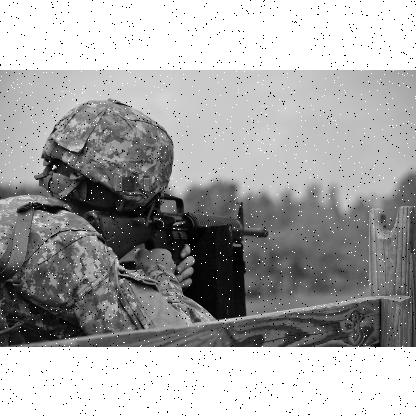gun: (74, 188, 268, 310)
